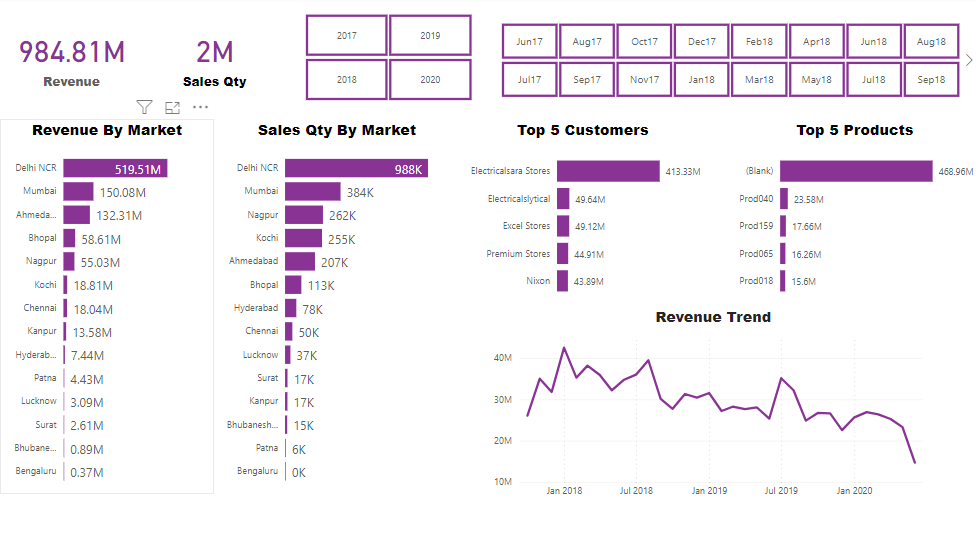

Layout of this report page (visuals, bound fields, positions):
{"tool":"powerbi","page":{"name":"Page 1","canvas":[1280,720],"ordinal":0},"visuals":[{"type":"card","fields":{"Values":["base measure.Revenue"]},"box":[0,0,187.2,158.4],"z":0},{"type":"card","fields":{"Values":["base measure.Sales Qty"]},"box":[187.3,0,187.3,159.1],"z":1000},{"type":"clusteredBarChart","title":"Revenue By Market","fields":{"Y":["base measure.Revenue"],"Category":["sales markets.markets_name"]},"box":[0,159.5,280.5,490.8],"z":2000},{"type":"clusteredBarChart","title":"Sales Qty By Market","fields":{"Category":["sales markets.markets_name"],"Y":["base measure.Sales Qty"]},"box":[280.5,159.5,321.7,490.8],"z":3000},{"type":"slicer","fields":{"Values":["sales date.year"]},"box":[374,16.5,266.7,125.1],"z":4000},{"type":"slicer","fields":{"Values":["sales date.cy_date"]},"box":[631.1,28.9,648.9,108.6],"z":5000},{"type":"clusteredBarChart","title":"Top 5 Customers","fields":{"Y":["base measure.Revenue"],"Category":["sales customers.custmer_name"]},"box":[602.2,159.5,321.7,246.1],"z":6000},{"type":"clusteredBarChart","title":"Top 5 Products","fields":{"Y":["base measure.Revenue"],"Category":["sales products.product_code"]},"box":[958.3,159.5,321.7,246.1],"z":7000},{"type":"lineChart","title":"Revenue Trend","fields":{"Y":["base measure.Revenue"],"Category":["sales date.cy_date.Variation.Date Hierarchy.Year","sales date.cy_date.Variation.Date Hierarchy.Month"]},"box":[641.5,404.5,585.2,260.5],"z":8000}]}

Visuals, with their boxes in screenshot pixels (x1, y1, x2, y2), scaled from the page's 1280x720 canvas onto the 976x545 screenshot:
card - base measure.Revenue: 0 0 143 120
card - base measure.Sales Qty: 143 0 286 120
"Revenue By Market" clusteredBarChart: 0 121 214 492
"Sales Qty By Market" clusteredBarChart: 214 121 459 492
slicer - sales date.year: 285 12 489 107
slicer - sales date.cy_date: 481 22 975 104
"Top 5 Customers" clusteredBarChart: 459 121 704 307
"Top 5 Products" clusteredBarChart: 731 121 975 307
"Revenue Trend" lineChart: 489 306 935 503
